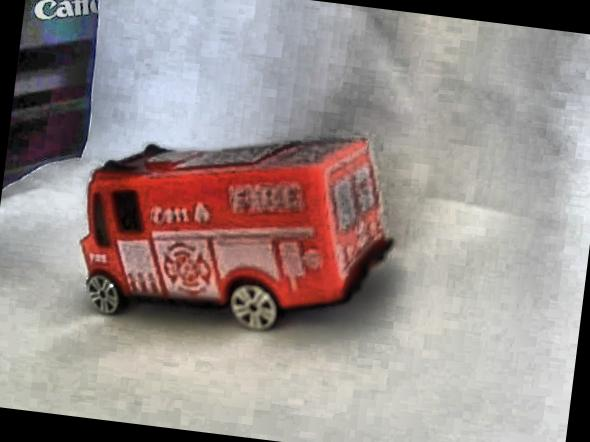fire_truck: (58, 93, 410, 354)
